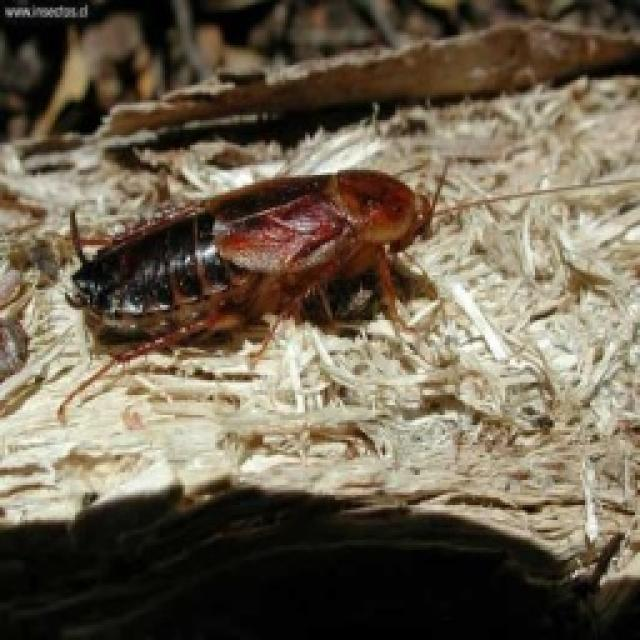cockroach: (54, 163, 449, 424)
